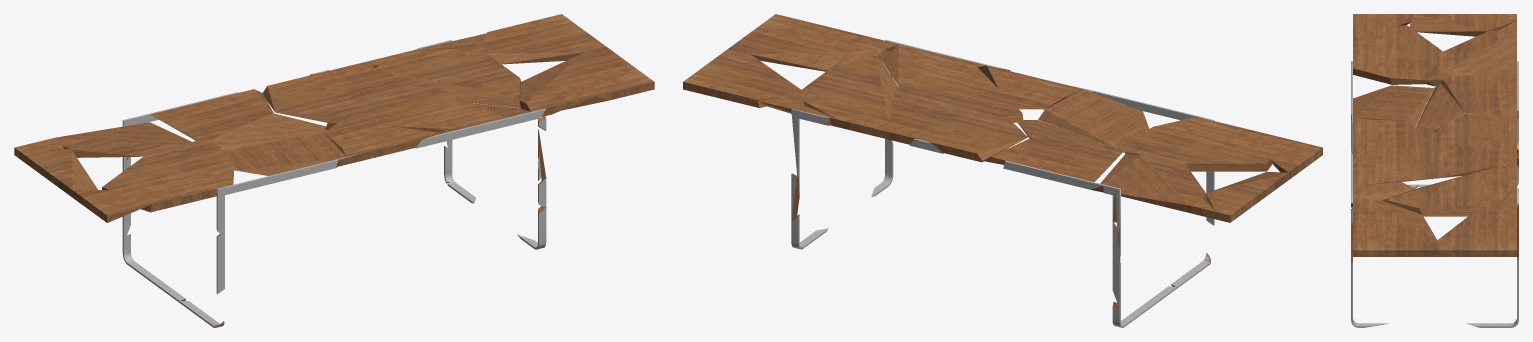
Rendered from table cassée.fbx.
The picture shows the model from 3 angles, left to right: view 1: azimuth 30°, elevation 25°; view 2: azimuth 150°, elevation 25°; view 3: azimuth 270°, elevation 25°; orthographic projection. The views are drawn at different scales.
Visible parts, largest first — view 1: ka_design_t1_obj.001_cell.034, ka_design_t1_obj.001_cell.001, ka_design_t1_obj.001_cell.024, ka_design_t1_obj.001_cell.007, ka_design_t1_obj.001_cell.015, ka_design_t1_obj.001_cell.019, ka_design_t1_obj.001_cell.008, ka_design_t1_obj.001_cell.002, ka_design_t1_obj.001_cell.030, ka_design_t1_obj.001_cell.020, ka_design_t1_obj.001_cell, ka_design_t1_obj.001_cell.021 (+12 smaller); view 2: ka_design_t1_obj.001_cell.034, ka_design_t1_obj.001_cell.024, ka_design_t1_obj.001_cell.001, ka_design_t1_obj.001_cell.007, ka_design_t1_obj.001_cell.008, ka_design_t1_obj.001_cell.019, ka_design_t1_obj.001_cell.015, ka_design_t1_obj.001_cell.002, ka_design_t1_obj.001_cell.030, ka_design_t1_obj.001_cell, ka_design_t1_obj.001_cell.020, ka_design_t1_obj.001_cell.033 (+12 smaller); view 3: ka_design_t1_obj.001_cell.034, ka_design_t1_obj.001_cell.001, ka_design_t1_obj.001_cell.007, ka_design_t1_obj.001_cell.024, ka_design_t1_obj.001_cell.008, ka_design_t1_obj.001_cell.015, ka_design_t1_obj.001_cell.030, ka_design_t1_obj.001_cell.002, ka_design_t1_obj.001_cell.019, ka_design_t1_obj.001_cell, ka_design_t1_obj.001_cell.020, ka_design_t1_obj.001_cell.033 (+15 smaller).
Part boxes in pixels (left/top/right/bottom): ka_design_t1_obj.001_cell.034: left=325, top=69, right=505, bottom=133; ka_design_t1_obj.001_cell.001: left=374, top=48, right=521, bottom=108; ka_design_t1_obj.001_cell.024: left=262, top=64, right=388, bottom=122; ka_design_t1_obj.001_cell.007: left=519, top=48, right=635, bottom=110; ka_design_t1_obj.001_cell.015: left=151, top=89, right=272, bottom=143; ka_design_t1_obj.001_cell.019: left=222, top=132, right=346, bottom=175; ka_design_t1_obj.001_cell.008: left=53, top=122, right=191, bottom=157; ka_design_t1_obj.001_cell.002: left=102, top=146, right=234, bottom=212; ka_design_t1_obj.001_cell.030: left=135, top=140, right=227, bottom=196; ka_design_t1_obj.001_cell.020: left=481, top=27, right=583, bottom=64; ka_design_t1_obj.001_cell: left=324, top=123, right=442, bottom=159; ka_design_t1_obj.001_cell.021: left=214, top=113, right=327, bottom=150; ka_design_t1_obj.001_cell.034: left=888, top=50, right=1023, bottom=122; ka_design_t1_obj.001_cell.024: left=881, top=110, right=1027, bottom=162; ka_design_t1_obj.001_cell.001: left=801, top=55, right=897, bottom=135; ka_design_t1_obj.001_cell.007: left=730, top=24, right=889, bottom=71; ka_design_t1_obj.001_cell.008: left=1100, top=154, right=1207, bottom=212; ka_design_t1_obj.001_cell.019: left=1038, top=89, right=1149, bottom=147; ka_design_t1_obj.001_cell.015: left=982, top=138, right=1122, bottom=181; ka_design_t1_obj.001_cell.002: left=1125, top=116, right=1277, bottom=171; ka_design_t1_obj.001_cell.030: left=1118, top=122, right=1235, bottom=162; ka_design_t1_obj.001_cell: left=982, top=65, right=1069, bottom=109; ka_design_t1_obj.001_cell.020: left=717, top=54, right=800, bottom=100; ka_design_t1_obj.001_cell.033: left=1207, top=172, right=1288, bottom=203; ka_design_t1_obj.001_cell.034: left=1353, top=126, right=1498, bottom=185; ka_design_t1_obj.001_cell.001: left=1382, top=166, right=1516, bottom=216; ka_design_t1_obj.001_cell.007: left=1353, top=199, right=1437, bottom=256; ka_design_t1_obj.001_cell.024: left=1431, top=114, right=1516, bottom=168; ka_design_t1_obj.001_cell.008: left=1443, top=30, right=1516, bottom=76; ka_design_t1_obj.001_cell.015: left=1441, top=72, right=1516, bottom=117; ka_design_t1_obj.001_cell.030: left=1353, top=44, right=1450, bottom=86; ka_design_t1_obj.001_cell.002: left=1353, top=25, right=1445, bottom=84; ka_design_t1_obj.001_cell.019: left=1353, top=85, right=1433, bottom=126; ka_design_t1_obj.001_cell: left=1353, top=120, right=1417, bottom=161; ka_design_t1_obj.001_cell.020: left=1438, top=208, right=1516, bottom=240; ka_design_t1_obj.001_cell.033: left=1409, top=14, right=1487, bottom=36.
Bounding box in the file's own units: 29993 × 7400 × 9000.
2 materials, 1 textured.
